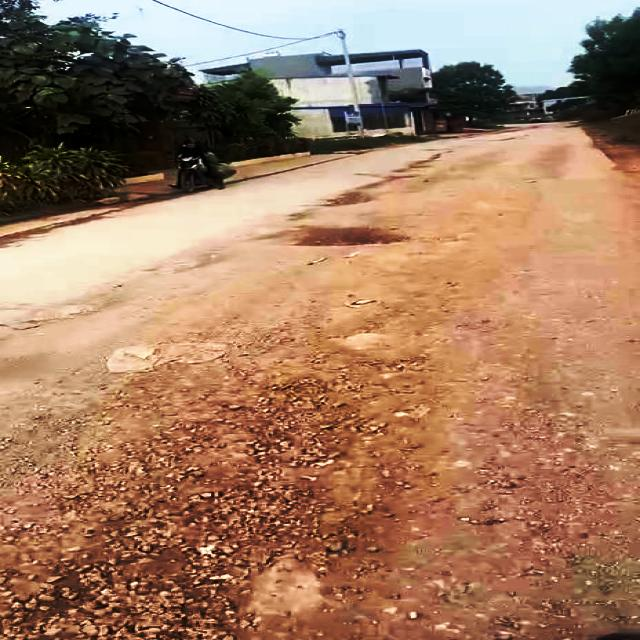pothole: (270, 226, 411, 249)
